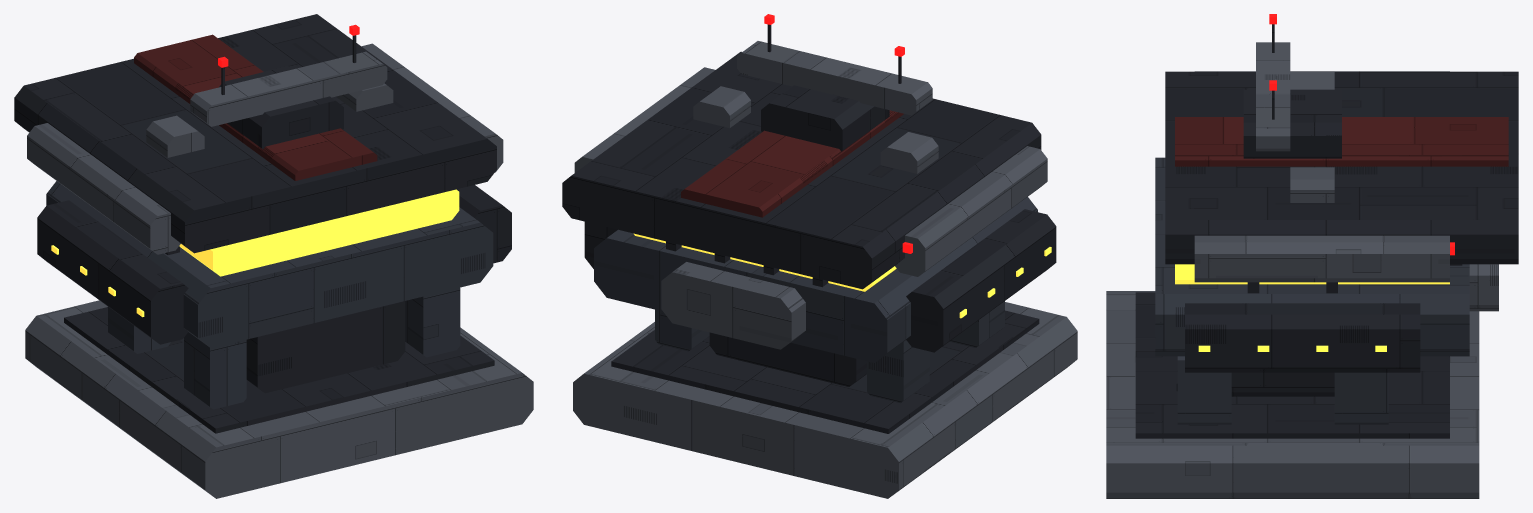
The model's file is juggernaut_bridge.glb.
The picture shows the model from 3 angles, left to right: view 1: azimuth 30°, elevation 25°; view 2: azimuth 150°, elevation 25°; view 3: azimuth 270°, elevation 25°; orthographic projection. The views are drawn at different scales.
Visible parts, largest first — view 1: Juggernaut_Bridge; view 2: Juggernaut_Bridge; view 3: Juggernaut_Bridge.
Boxes of the visible parts, <box> form: Juggernaut_Bridge: <box>14,14,533,498</box>; Juggernaut_Bridge: <box>562,14,1077,498</box>; Juggernaut_Bridge: <box>1106,14,1518,498</box>.
Bounding box in the file's own units: 66.7 × 62.85 × 63.
Materials: 6 (4 with a texture image).
